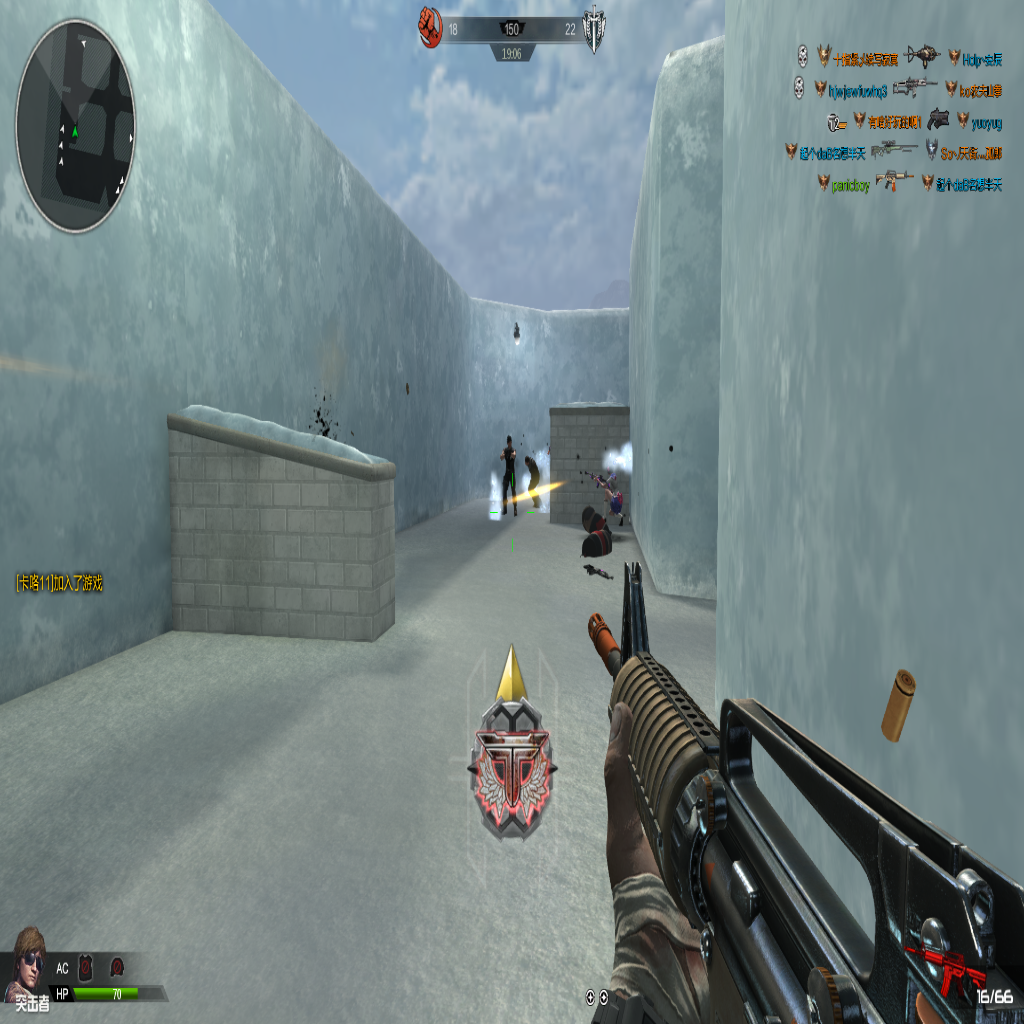ct: (501, 434, 516, 517)
